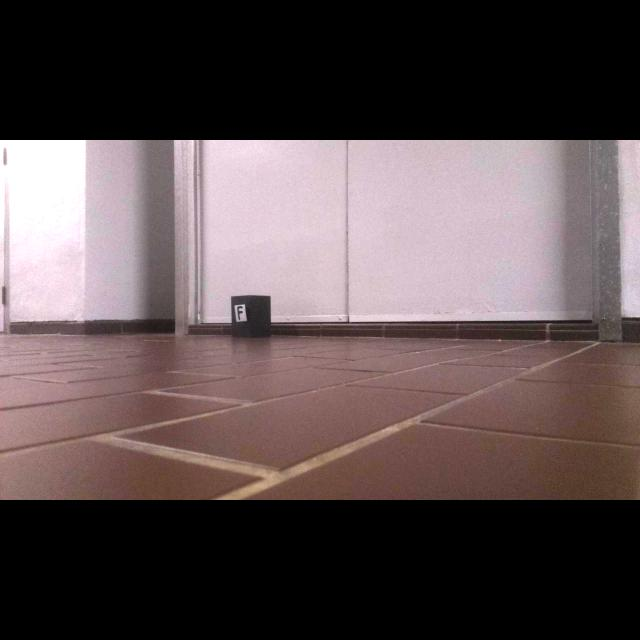F: (237, 306, 243, 320)
